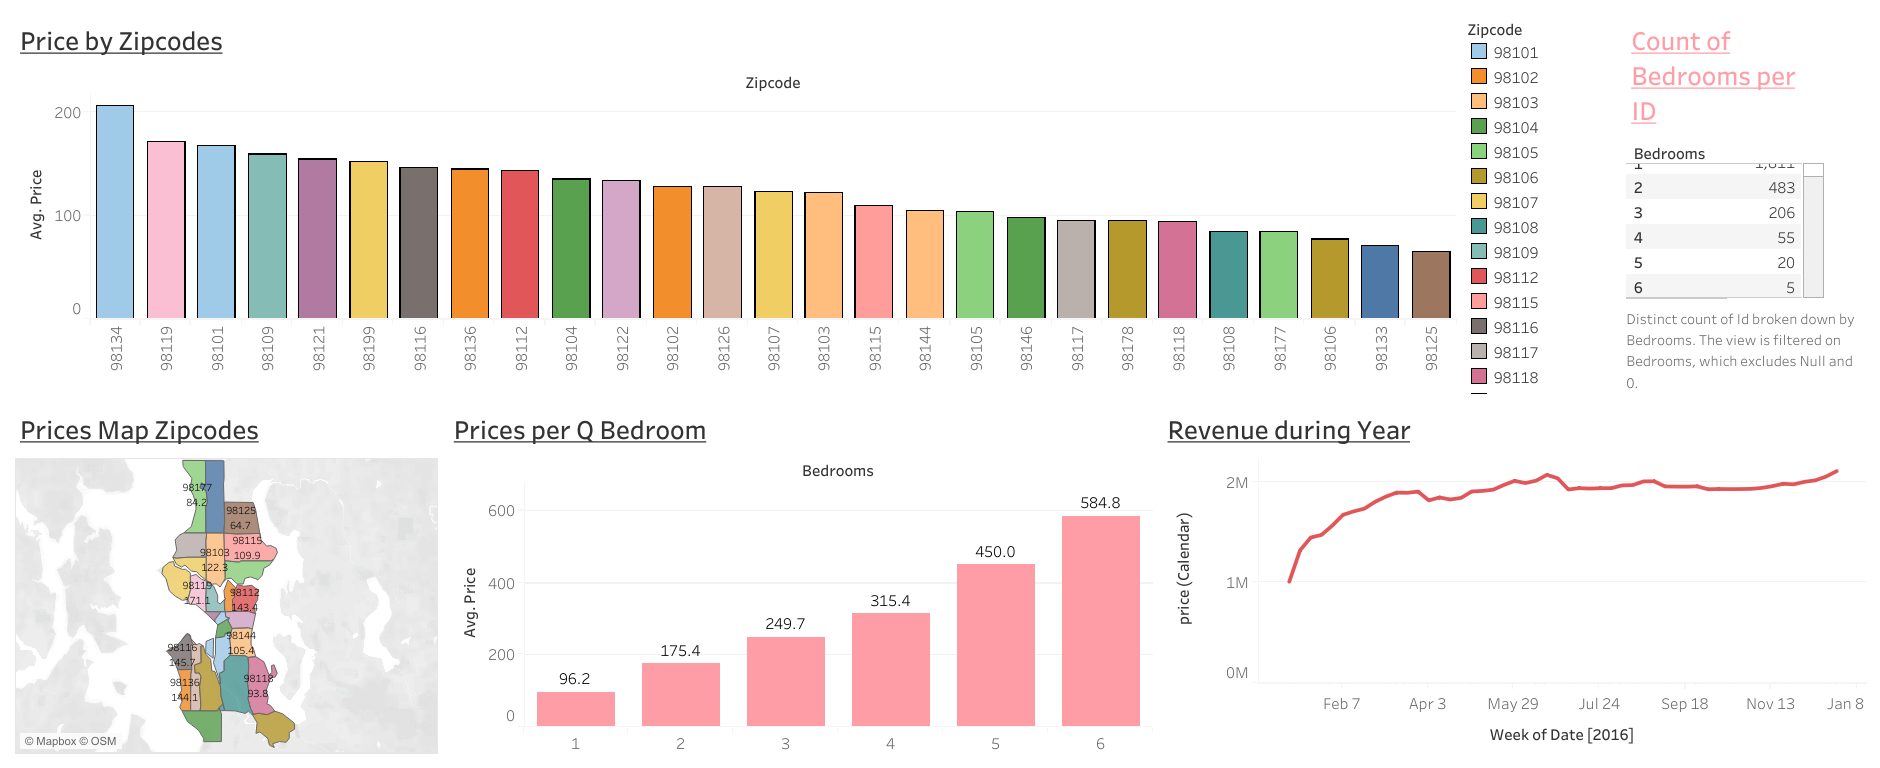

The page's visual inventory and layout, read from the dashboard file:
{"tool":"tableau","page":{"name":"Dashboard 1","canvas":[1000,1000],"units":"permille","ordinal":0},"visuals":[{"type":"worksheet","title":"Prices by Zipcodes","mark":"Automatic","rows":["price"],"cols":["zipcode"],"box":[5,10,772.3,509.4]},{"type":"legend","title":"Prices by Zipcodes","param":"[federated.1ihowkz08807ep166uxgu08xb9ux].[none:zipcode:ok]","box":[777.2,10,84.8,509.4]},{"type":"worksheet","title":"Distinct Count of Bedroom per ID","mark":"Automatic","rows":["bedrooms"],"box":[862,10,133.1,509.4]},{"type":"worksheet","title":"Map Zipcodes","mark":"Multipolygon","box":[5,519.4,231,470.7]},{"type":"worksheet","title":"Prices per Bedroom Nr","mark":"Automatic","rows":["price"],"cols":["bedrooms"],"box":[236,519.4,379.5,470.7]},{"type":"worksheet","title":"Revenue during Year","mark":"Automatic","rows":["price (Calendar)"],"cols":["date"],"box":[615.5,519.4,379.5,470.7]}]}

Visuals, with their boxes on the dashboard's canvas, which has no fixed pixel size, in thousandths of its width and height (x1, y1, x2, y2). These are canvas units, not pixel positions in the 1880x768 screenshot, which may show the page scaled, cropped or inside an application window:
"Prices by Zipcodes" worksheet: bbox(5, 10, 777, 519)
"Prices by Zipcodes" legend: bbox(777, 10, 862, 519)
"Distinct Count of Bedroom per ID" worksheet: bbox(862, 10, 995, 519)
"Map Zipcodes" worksheet (Multipolygon marks): bbox(5, 519, 236, 990)
"Prices per Bedroom Nr" worksheet: bbox(236, 519, 616, 990)
"Revenue during Year" worksheet: bbox(616, 519, 995, 990)
